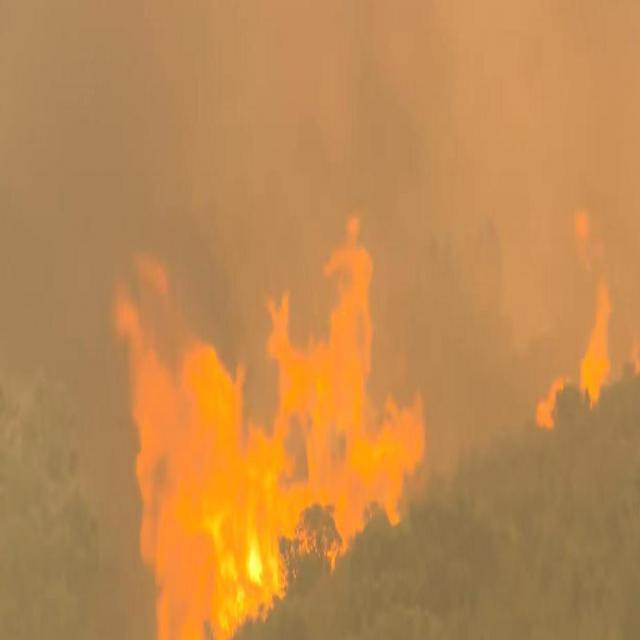Fire: (115, 201, 432, 637), (534, 270, 614, 434)
